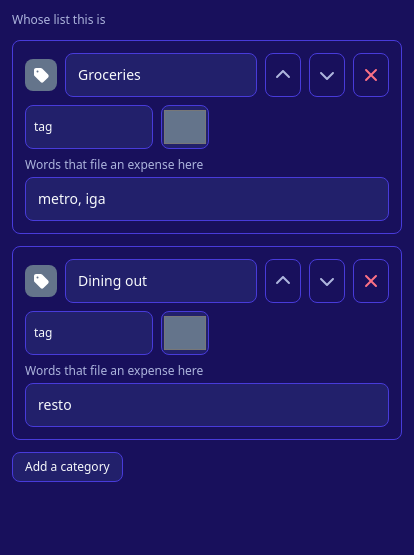
Scenario: the category editor › offers nothing to save until something changes
Step 1. Replace the text in the 1st field with test id "category-name" with "Epicerie" → x=161, y=75, box [65,53,257,97]
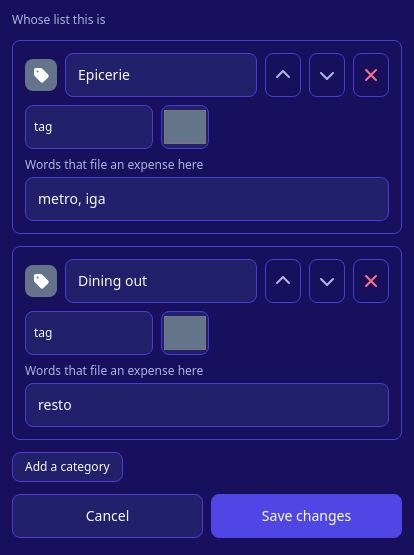
Check: the button with test id "save-categories" is shown, box [211,494,402,538]
